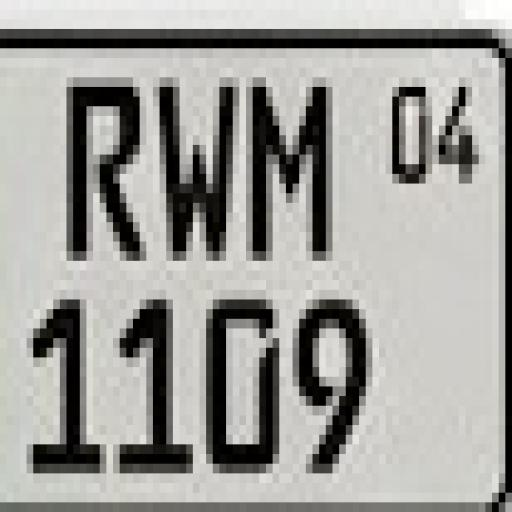0: (200, 294, 282, 472)
1: (111, 294, 193, 479), (34, 285, 106, 477)
9: (298, 292, 370, 487)
M: (247, 85, 343, 268)
R: (64, 74, 148, 264)
W: (159, 76, 236, 268)
